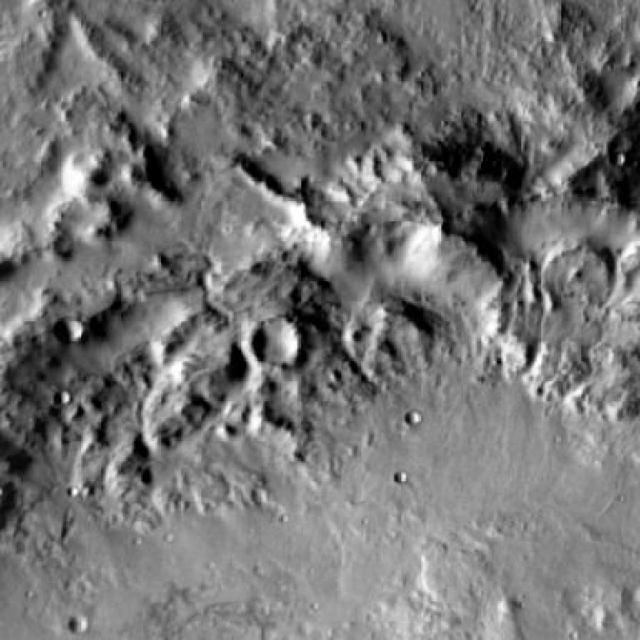crater: (248, 323, 300, 371), (54, 320, 80, 345), (64, 614, 84, 632)
